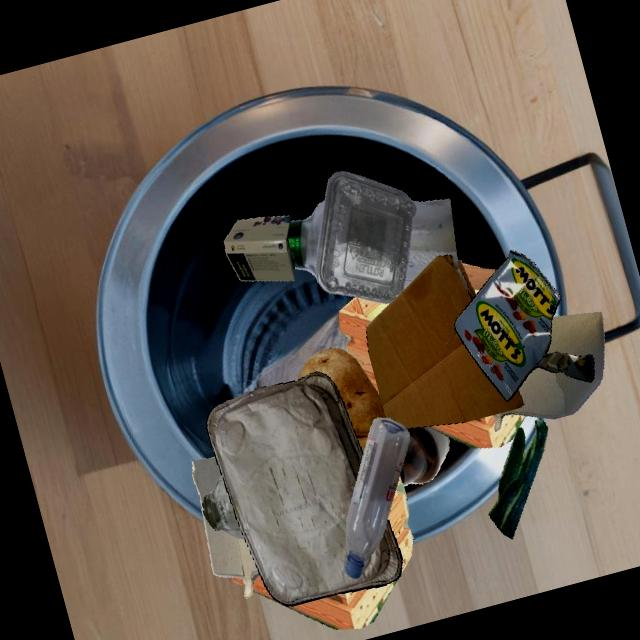biowaste: (297, 347, 386, 454), (488, 419, 548, 538)
cardboard: (365, 254, 524, 428), (492, 311, 604, 431), (192, 456, 260, 599), (224, 215, 294, 280)
combustible waste: (365, 262, 505, 430), (260, 559, 402, 605), (252, 583, 334, 628), (334, 575, 400, 628), (387, 475, 413, 574)
glass: (404, 198, 457, 286), (399, 426, 449, 486), (287, 200, 324, 279), (202, 475, 244, 538)
metal: (206, 371, 402, 606)
plastic: (315, 171, 416, 303), (344, 417, 409, 579)
trash: (454, 249, 594, 401)
